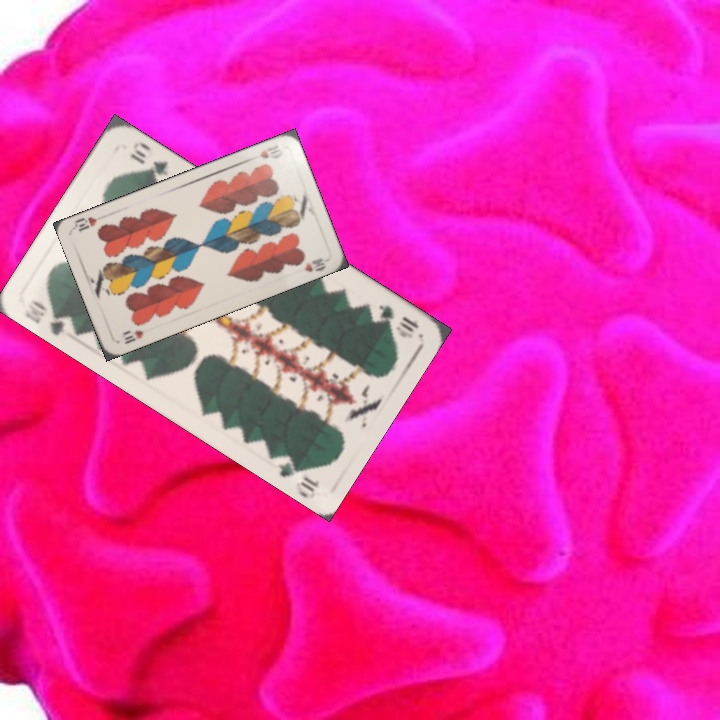G10: (20, 296, 71, 338), (373, 300, 422, 341)
H10: (256, 140, 282, 161), (120, 326, 146, 347)
